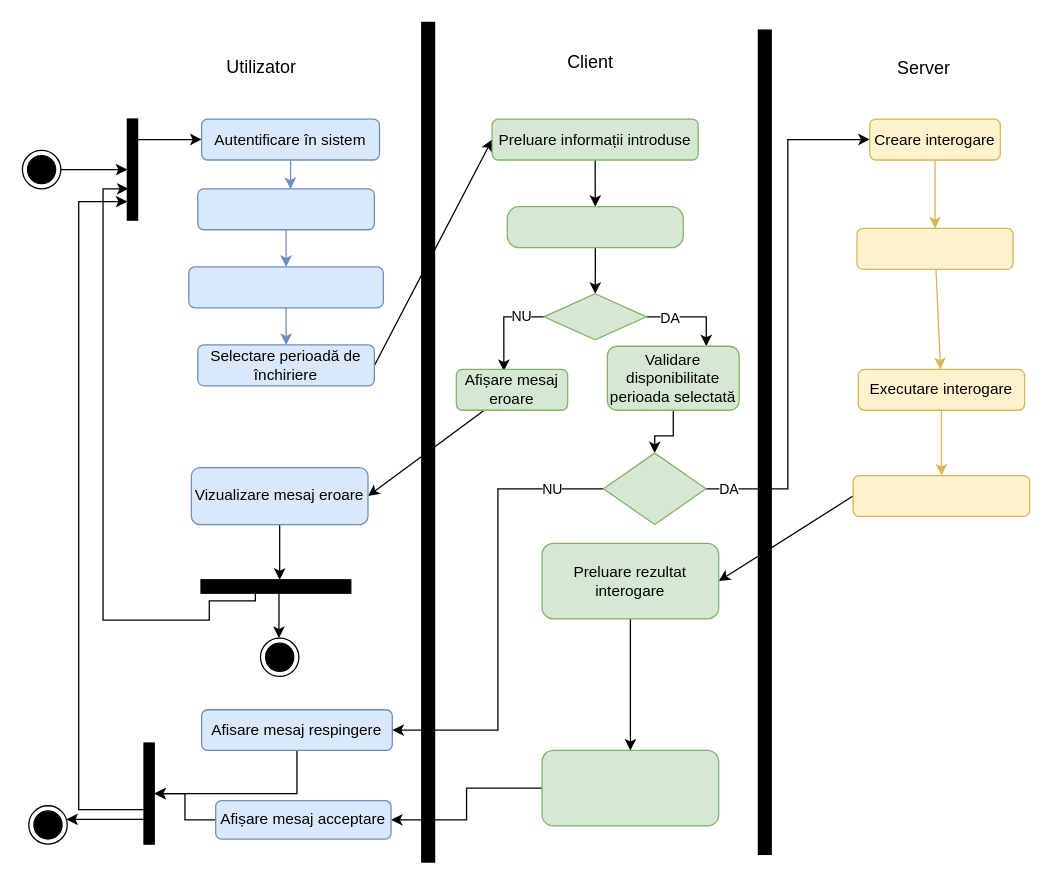
Image size: 1052x884. Some labels were removed from this diagram. Each missing label, with the box of its shape:
Conectare la baza de date: (856, 227, 1013, 269)
Deconectare de la baza de date: (852, 474, 1030, 516)
Salvare cerere: (541, 749, 719, 826)
Selectare autoturism dorit: (188, 266, 383, 308)
Selectare opțiune "Creare Cerere": (196, 188, 374, 230)
Validare date introduse: (506, 205, 683, 248)
